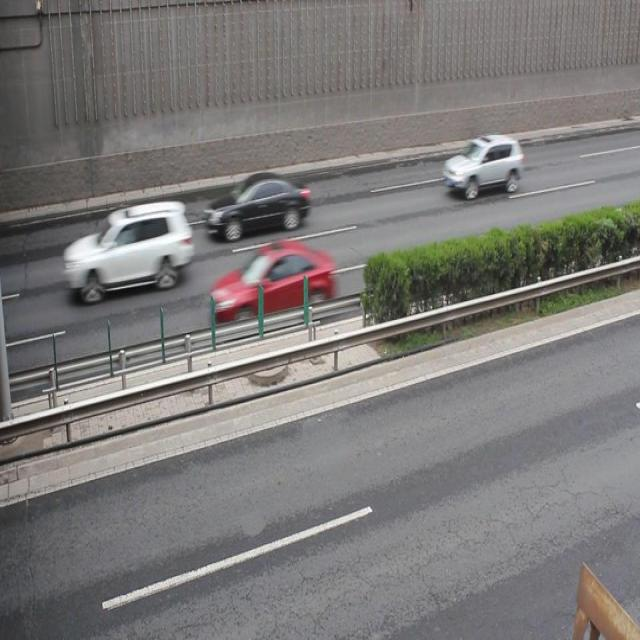car: (63, 203, 192, 302), (211, 242, 338, 320), (208, 172, 309, 238), (443, 135, 521, 199)
